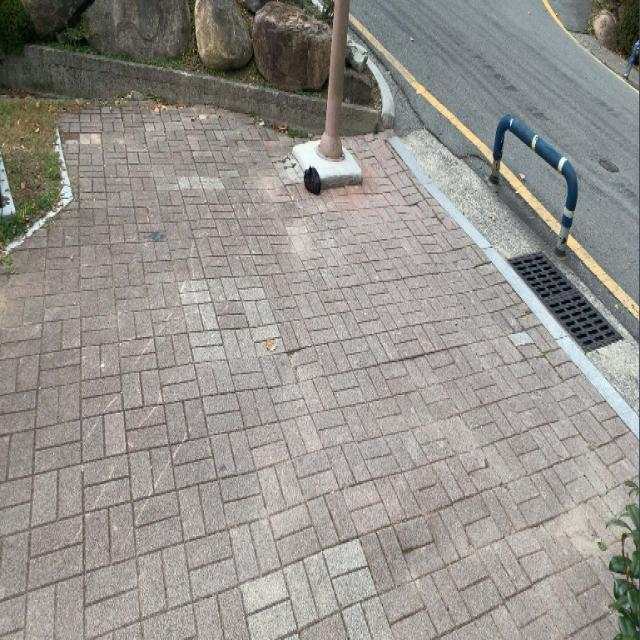Trashbag: (296, 169, 326, 197)
